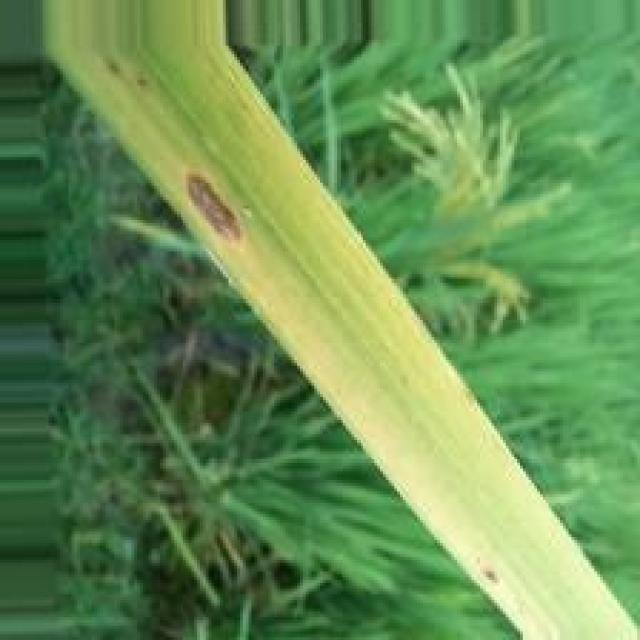Brown_Spot: (179, 171, 250, 250), (482, 562, 506, 588)
